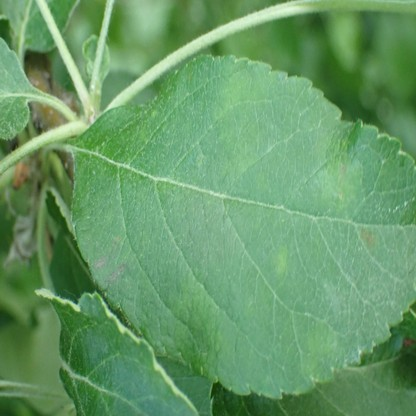powdery_mildew: (322, 281, 348, 322)
scab: (214, 63, 276, 173), (173, 284, 222, 383), (322, 153, 359, 205), (307, 328, 334, 373), (275, 244, 288, 275), (360, 228, 376, 247)
